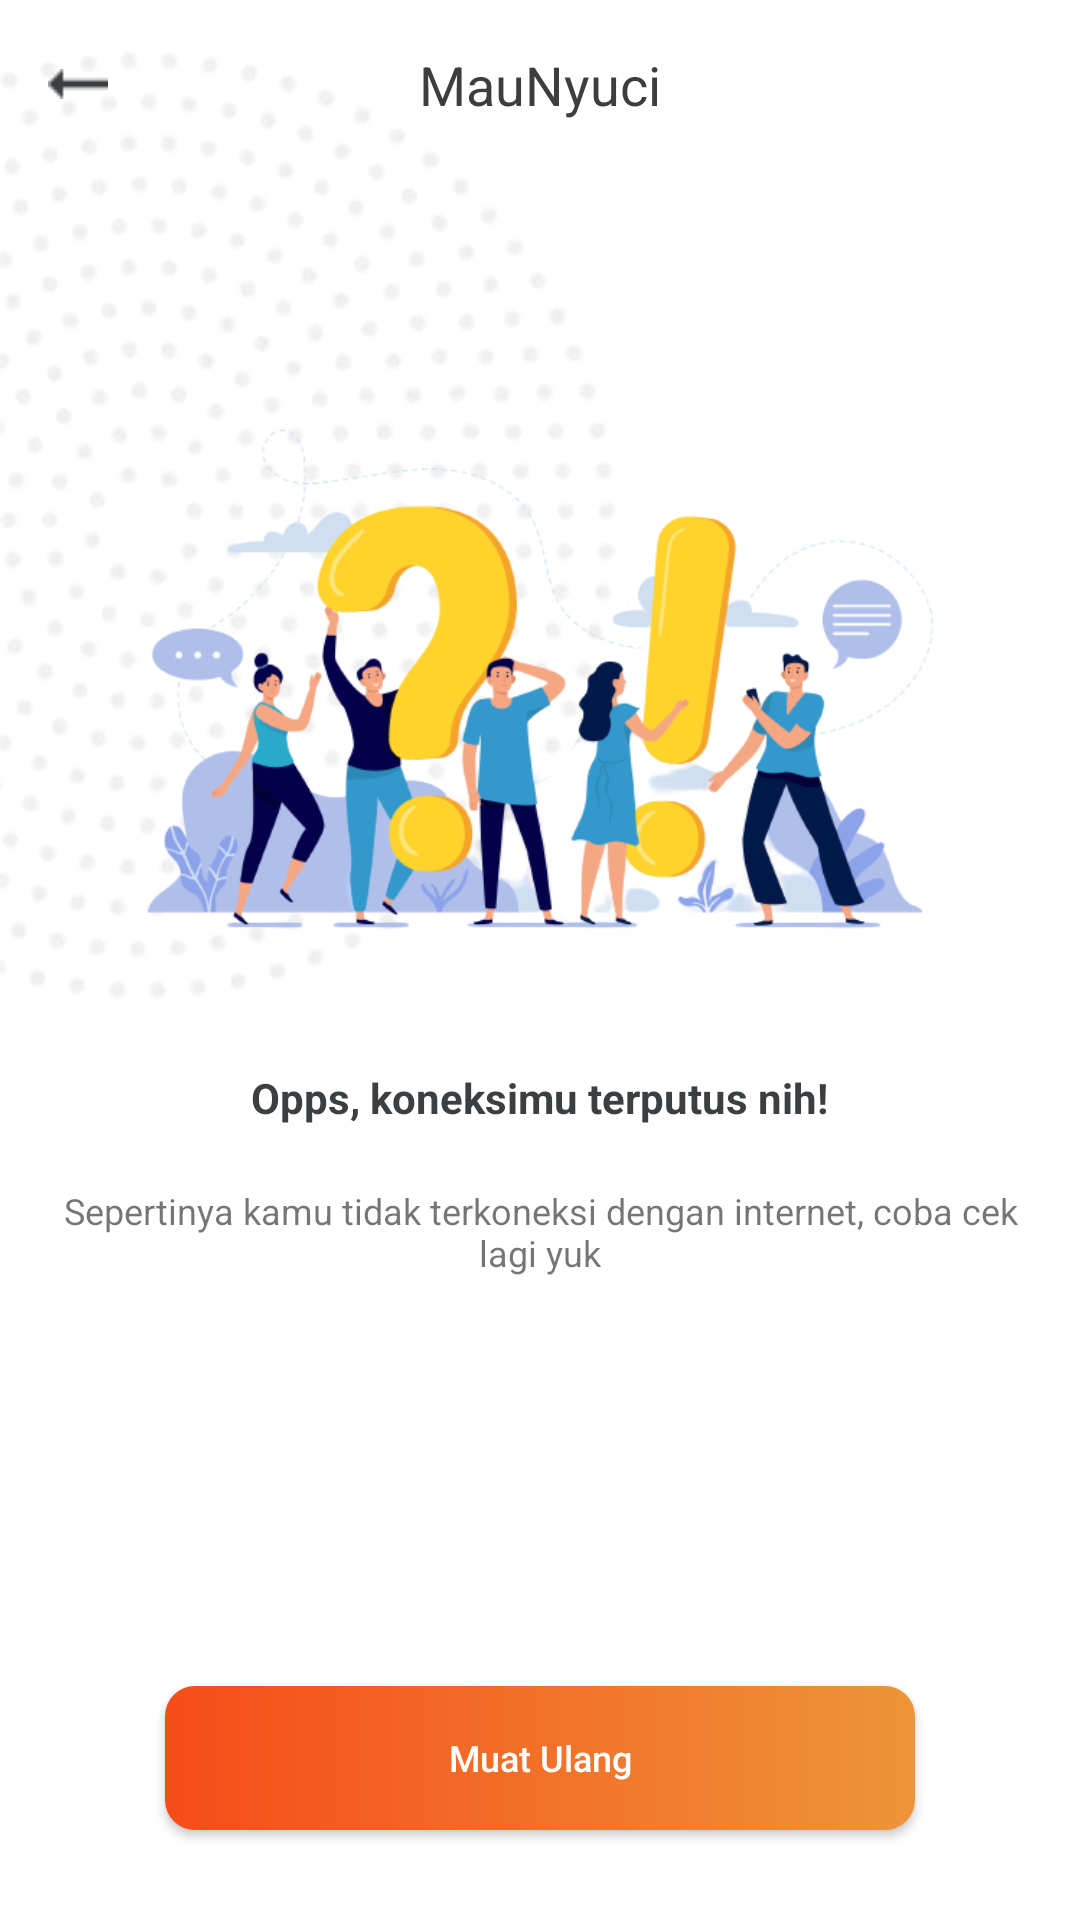

Icon click points for this 1080*1920 phone screenshot, format (x=x, y=y):
back: (x=78, y=84)
